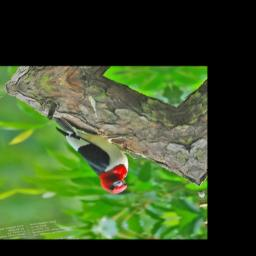Woodpecker: (48, 107, 148, 201)
